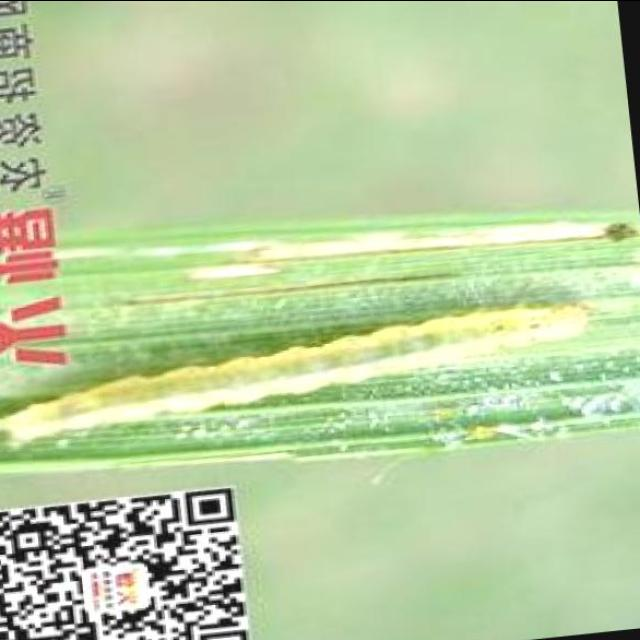leaf folder: (0, 303, 588, 443)
